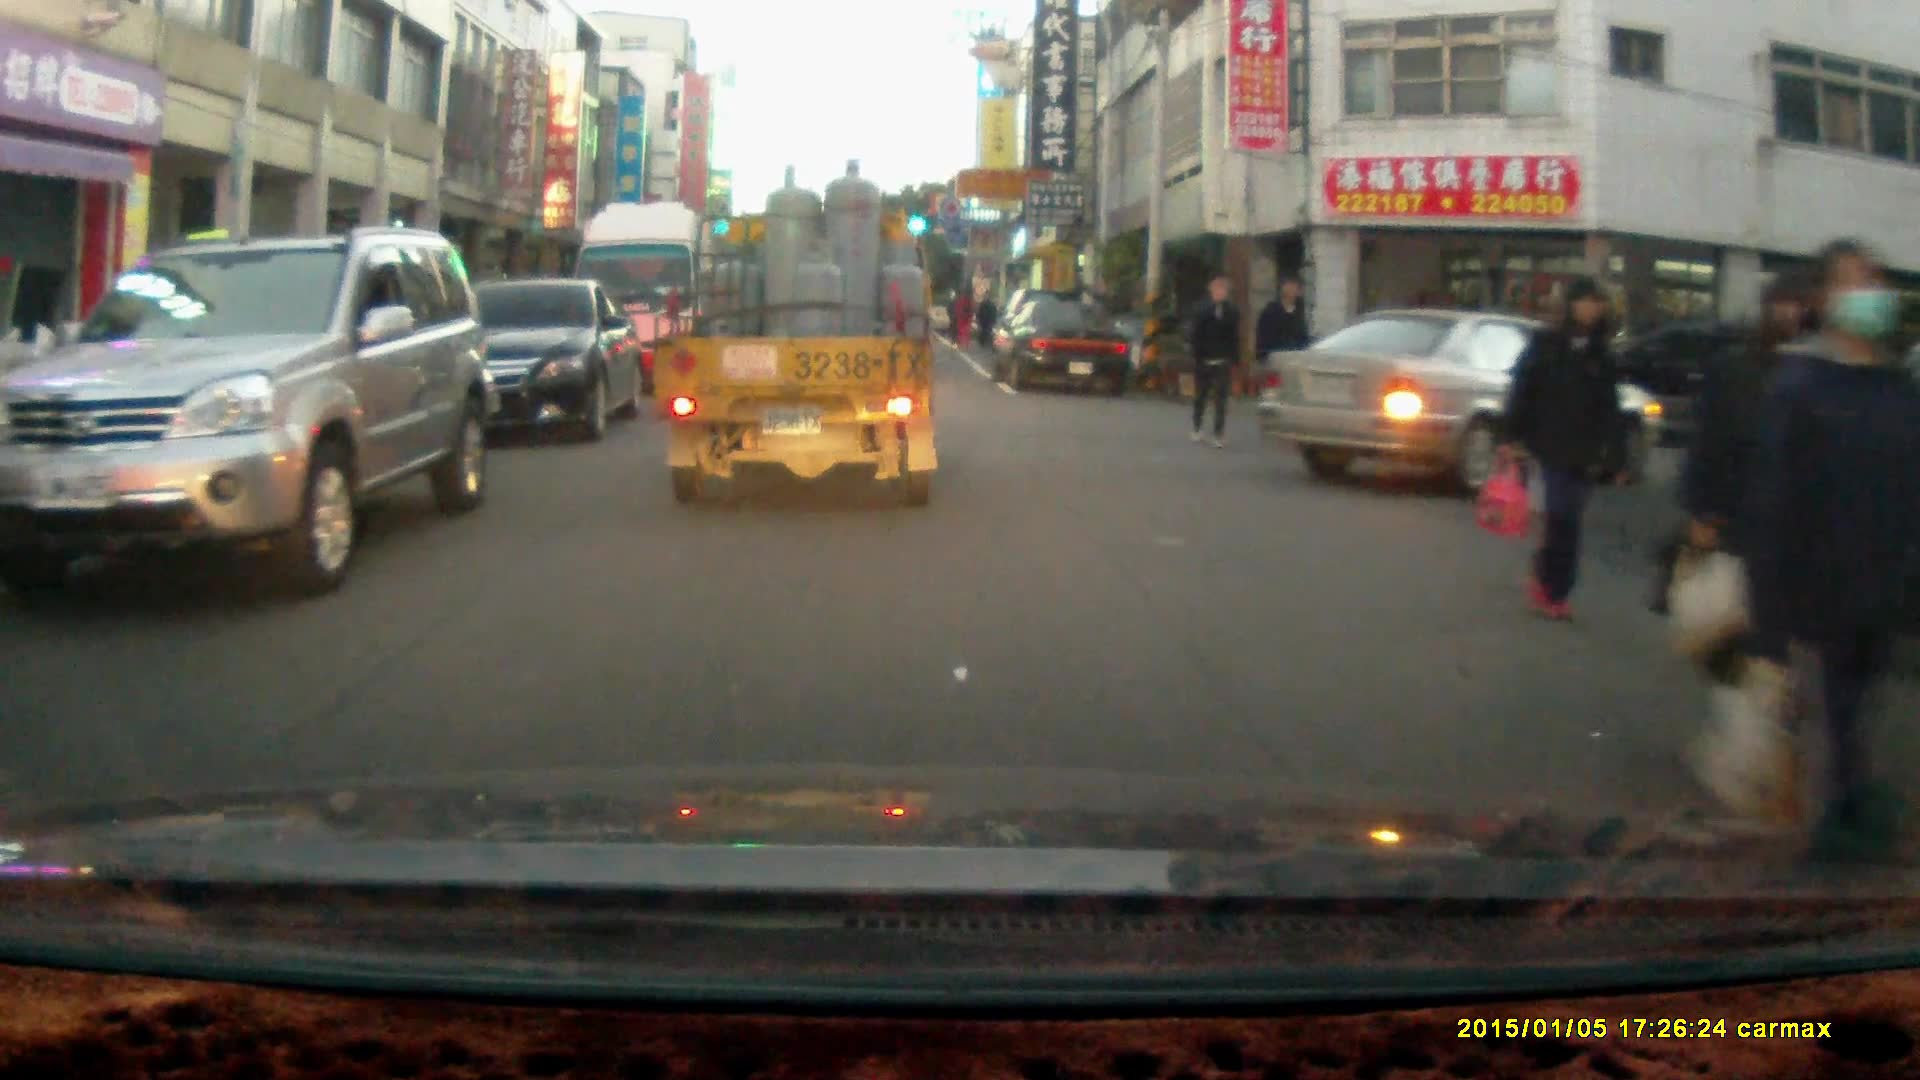pedestrian: (1747, 235, 1918, 855), (1677, 273, 1838, 783), (1503, 279, 1629, 627), (1252, 276, 1313, 448), (1184, 269, 1240, 451), (972, 285, 999, 353)
vehicle: (2, 226, 501, 605), (652, 159, 939, 517), (1264, 310, 1670, 508), (398, 280, 642, 448), (569, 204, 739, 403), (987, 301, 1135, 400)
